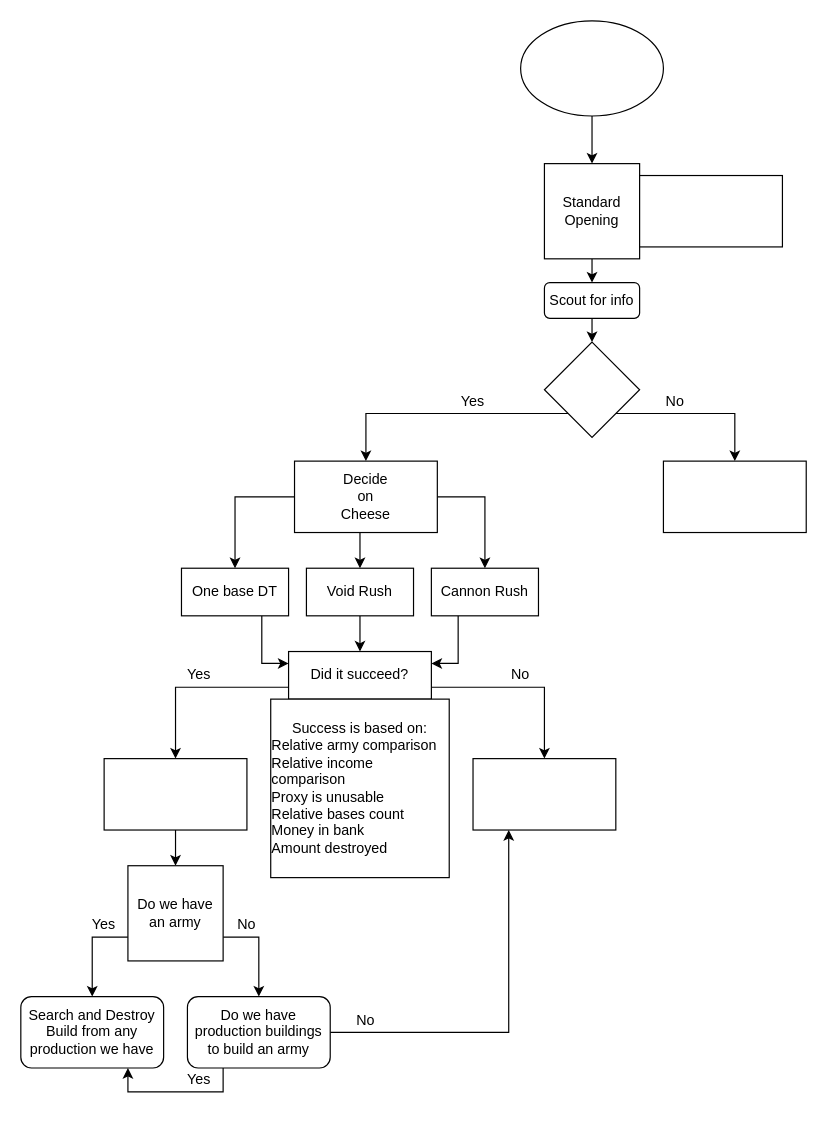
Some shapes in this 827 by 1122 pixel diagram are drawn without their labels. Each missing label, with the box of its shape:
14 pylon 16 gate 17 sim 20 cyber: (638, 174, 782, 247)
Are we cheese?: (543, 341, 640, 437)
Finish off enemy: (103, 757, 247, 830)
Game Starts: (519, 20, 663, 116)
Macro all-in blink stalker disruptor: (472, 757, 616, 830)
